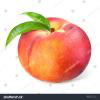Peach leaf: (4, 21, 50, 50), (20, 11, 51, 30)
